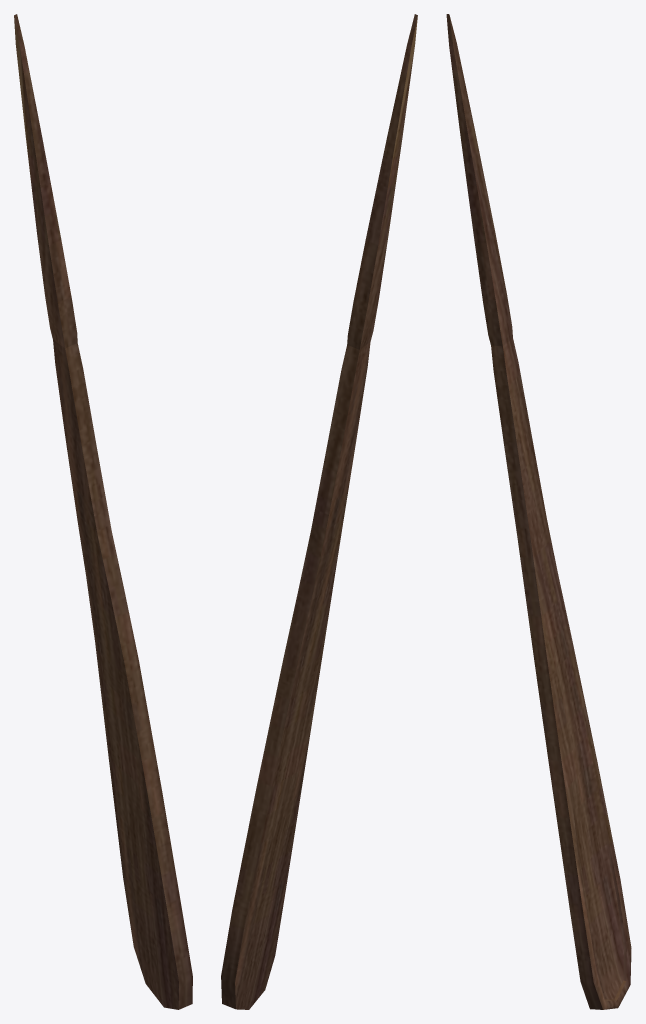
The model's file is XD-现代茶具2.fbx.
The picture shows the model from 3 angles, left to right: view 1: azimuth 30°, elevation 25°; view 2: azimuth 150°, elevation 25°; view 3: azimuth 330°, elevation 25°; orthographic projection. The views are drawn at different scales.
Visible parts, largest first — view 1: XD-现代茶具2; view 2: XD-现代茶具2; view 3: XD-现代茶具2.
Boxes of the visible parts, x1,y1,x2,y2 form: XD-现代茶具2: (14, 14, 192, 1009); XD-现代茶具2: (221, 14, 417, 1009); XD-现代茶具2: (446, 14, 631, 1009).
Size of the model in its own units: 0.0552 by 0.0236 by 0.3134.
